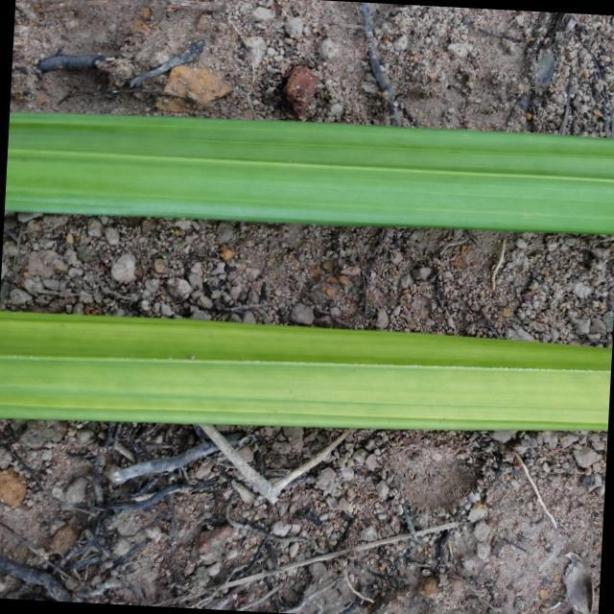nitrogen: (0, 301, 614, 430), (0, 107, 614, 234)
